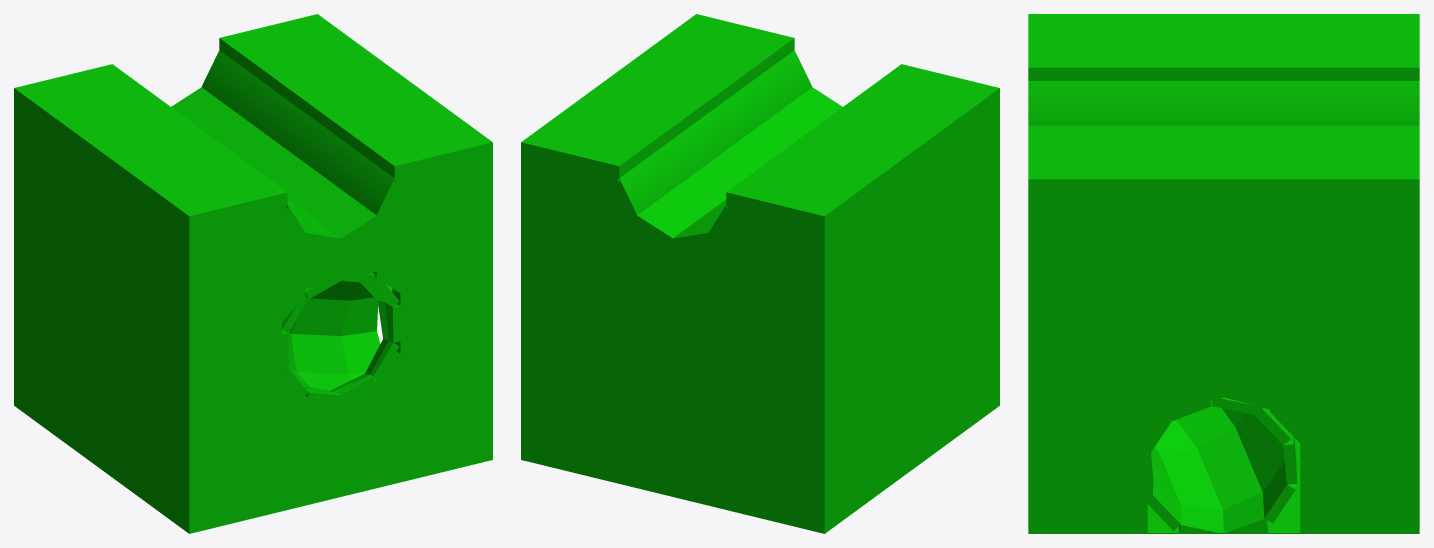
The model's file is UCXKugelbahn.09.fbx.
3 renders of one model, left to right at view 1: azimuth 30°, elevation 25°; view 2: azimuth 150°, elevation 25°; view 3: azimuth 270°, elevation 25°, orthographic. The views are drawn at different scales.
Visible parts, largest first — view 1: UCX_Kugelbahn.09_low; view 2: UCX_Kugelbahn.09_low; view 3: UCX_Kugelbahn.09_low.
Part boxes in pixels (x1,y1,x2,y2): UCX_Kugelbahn.09_low: (14, 14, 492, 533); UCX_Kugelbahn.09_low: (521, 14, 999, 533); UCX_Kugelbahn.09_low: (1028, 14, 1419, 533).
Size of the model in its own units: 0.05 by 0.05 by 0.05.
